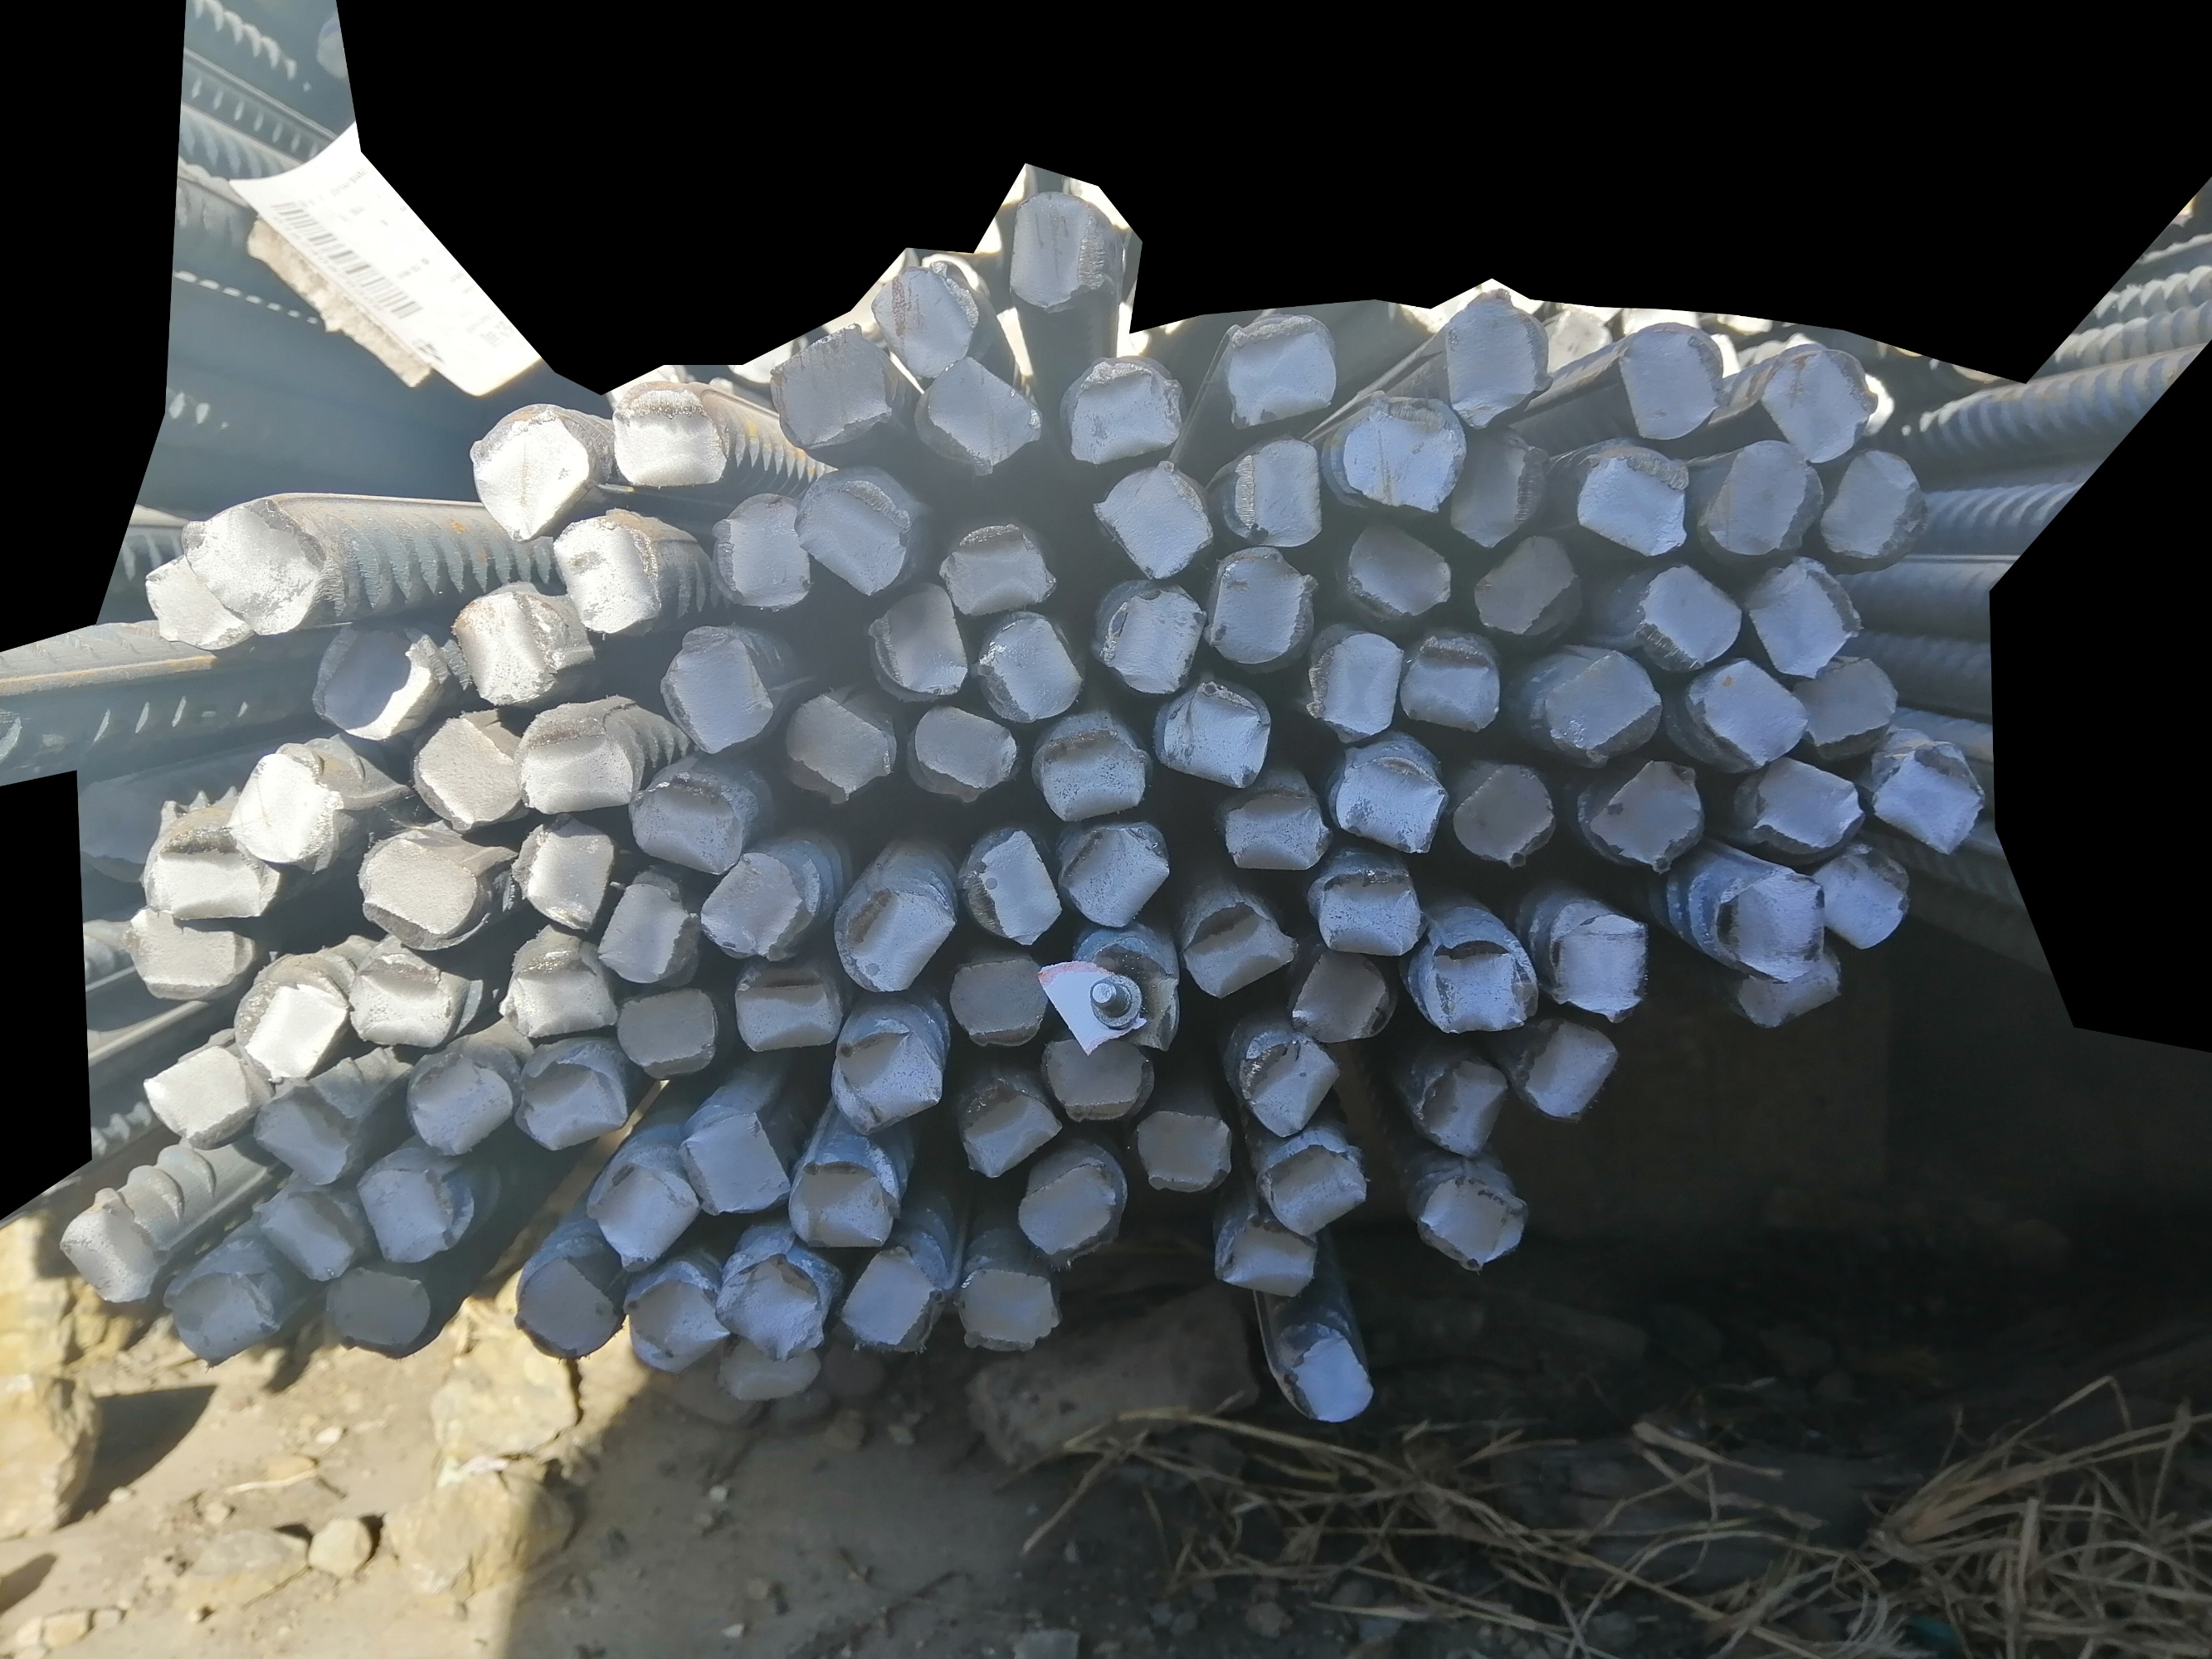rebar: (180, 491, 335, 636), (465, 397, 598, 544), (1752, 329, 1886, 462), (302, 605, 436, 735), (791, 467, 919, 605), (1700, 432, 1830, 563), (760, 328, 899, 450), (1740, 552, 1872, 678), (439, 573, 560, 711), (908, 356, 1039, 481), (1578, 748, 1708, 873), (1143, 669, 1276, 793), (1706, 850, 1830, 983), (608, 362, 730, 497), (1332, 390, 1468, 511), (1435, 288, 1555, 422), (1815, 444, 1935, 579), (139, 823, 284, 934), (1060, 352, 1187, 477), (1609, 319, 1734, 446), (1576, 434, 1698, 565), (1008, 176, 1117, 321), (225, 744, 352, 868), (1089, 460, 1213, 587), (352, 828, 481, 950), (1206, 538, 1318, 678), (772, 680, 898, 803), (411, 702, 523, 838), (132, 540, 261, 657), (666, 624, 781, 755), (1330, 742, 1452, 864), (940, 505, 1065, 624), (1056, 812, 1184, 929), (1532, 648, 1663, 762), (1447, 420, 1555, 556), (837, 875, 959, 995), (831, 1014, 952, 1136), (1468, 530, 1588, 650), (1677, 657, 1813, 763), (1410, 931, 1536, 1046), (622, 767, 751, 878), (237, 962, 357, 1080), (511, 812, 626, 936), (1030, 706, 1154, 821), (587, 1145, 702, 1269), (549, 512, 659, 641), (709, 486, 816, 619), (519, 709, 641, 824), (1177, 897, 1300, 1011), (1625, 554, 1752, 664), (868, 568, 973, 701), (357, 1152, 476, 1269), (1222, 308, 1340, 425), (1870, 741, 1992, 854), (1075, 929, 1182, 1058), (1231, 1016, 1344, 1136), (120, 904, 260, 1002), (695, 838, 812, 953), (506, 1248, 622, 1363), (1443, 758, 1560, 873), (1300, 626, 1412, 746), (138, 1040, 260, 1150), (1037, 1012, 1159, 1122), (1401, 1044, 1508, 1169), (1815, 831, 1919, 958), (969, 610, 1084, 725), (727, 945, 847, 1054), (1405, 1161, 1525, 1270), (52, 1190, 159, 1314), (955, 1249, 1069, 1364), (682, 1100, 790, 1220), (957, 826, 1063, 948), (837, 1241, 943, 1363), (1400, 620, 1504, 744), (499, 932, 615, 1042), (1741, 753, 1870, 852), (898, 699, 1021, 802), (1551, 899, 1654, 1023), (1790, 645, 1903, 756), (1100, 579, 1210, 694), (1021, 1148, 1126, 1269), (251, 1175, 363, 1286), (868, 258, 981, 368), (406, 1044, 523, 1150), (1279, 945, 1400, 1047), (617, 1258, 727, 1368), (1271, 1323, 1382, 1431), (1346, 519, 1459, 626), (347, 948, 467, 1047), (1262, 1129, 1370, 1239), (159, 1260, 270, 1366), (1511, 1019, 1625, 1122), (605, 985, 723, 1082), (598, 870, 694, 990), (953, 1073, 1063, 1178), (715, 1248, 821, 1354), (1316, 861, 1426, 960), (1215, 784, 1328, 880), (790, 1152, 894, 1255), (248, 1084, 357, 1182), (518, 1056, 628, 1154), (1222, 434, 1325, 537), (1724, 939, 1849, 1023), (948, 953, 1051, 1053), (1220, 1202, 1316, 1309), (324, 1263, 432, 1356), (1137, 1108, 1243, 1199), (713, 1324, 821, 1406)
